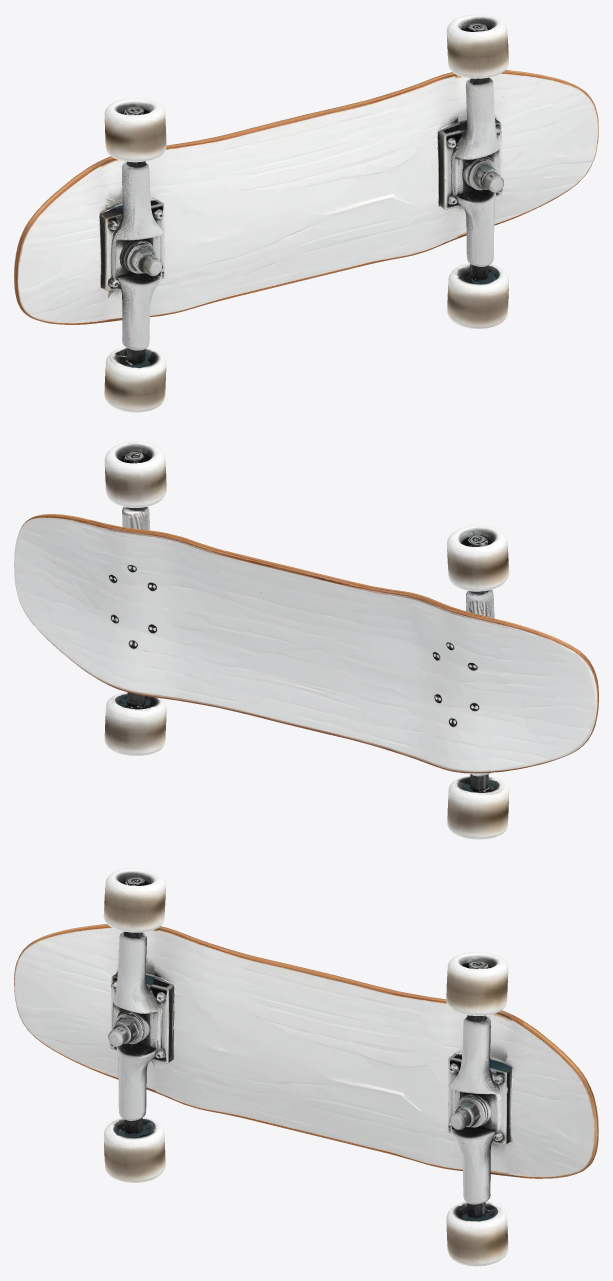
The model's file is skateboard.glb.
3 renders of one model, top to bottom at view 1: azimuth 30°, elevation 25°; view 2: azimuth 150°, elevation 25°; view 3: azimuth 330°, elevation 25°, orthographic.
Size of the model in its own units: 1.9 by 0.9213 by 0.2346.
Materials: 1 (1 with a texture image).
